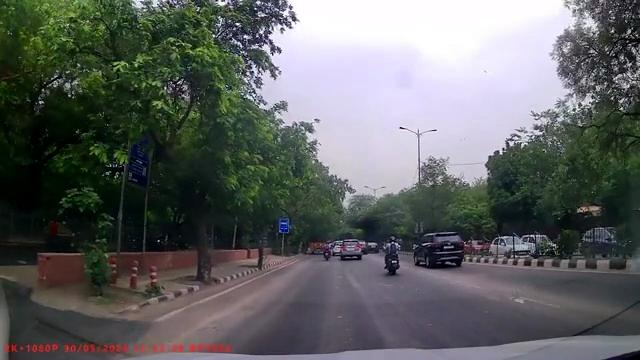motorcycle_with_helmet: (383, 235, 402, 275)
